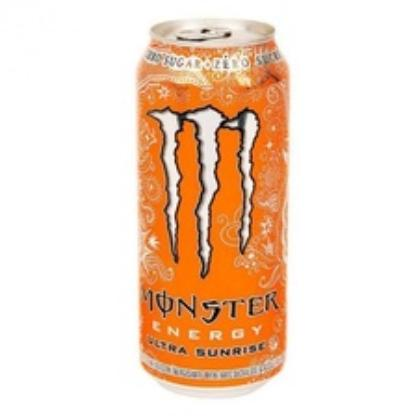Can: (135, 18, 291, 396)
